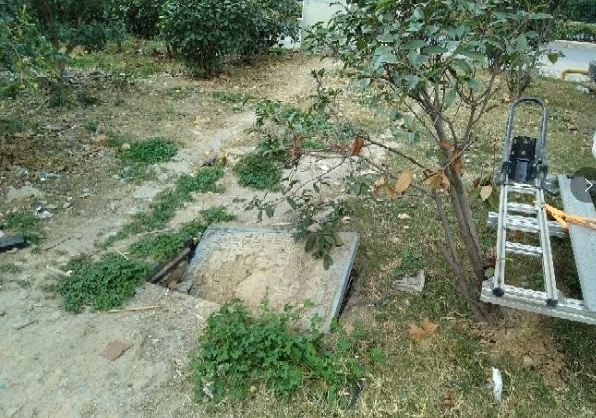well: (443, 92, 594, 342)
